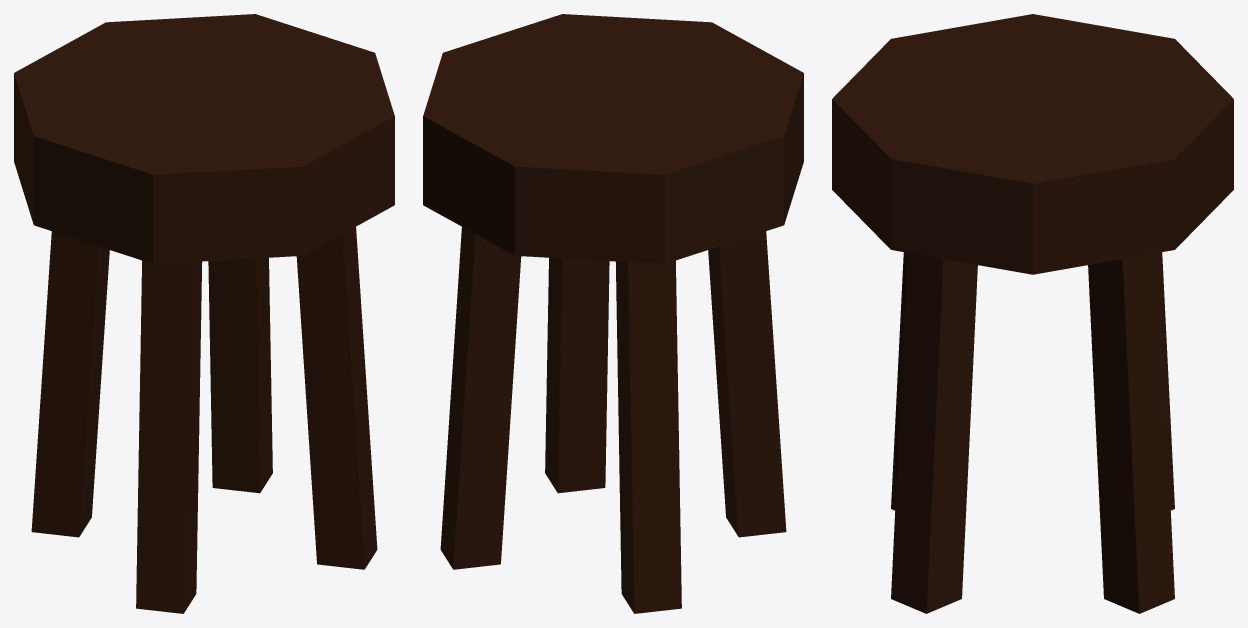
The model's file is Set-Dressing-Stool.FBX.
3 renders of one model, left to right at view 1: azimuth 30°, elevation 25°; view 2: azimuth 150°, elevation 25°; view 3: azimuth 270°, elevation 25°, orthographic.
Visible parts, largest first — view 1: Set-Dressing-Stool; view 2: Set-Dressing-Stool; view 3: Set-Dressing-Stool.
Part boxes in pixels (x1=…): Set-Dressing-Stool: x1=14, y1=14, x2=394, y2=613; Set-Dressing-Stool: x1=423, y1=14, x2=803, y2=613; Set-Dressing-Stool: x1=832, y1=14, x2=1233, y2=613.
Bounding box in the file's own units: 4 × 5 × 4.
